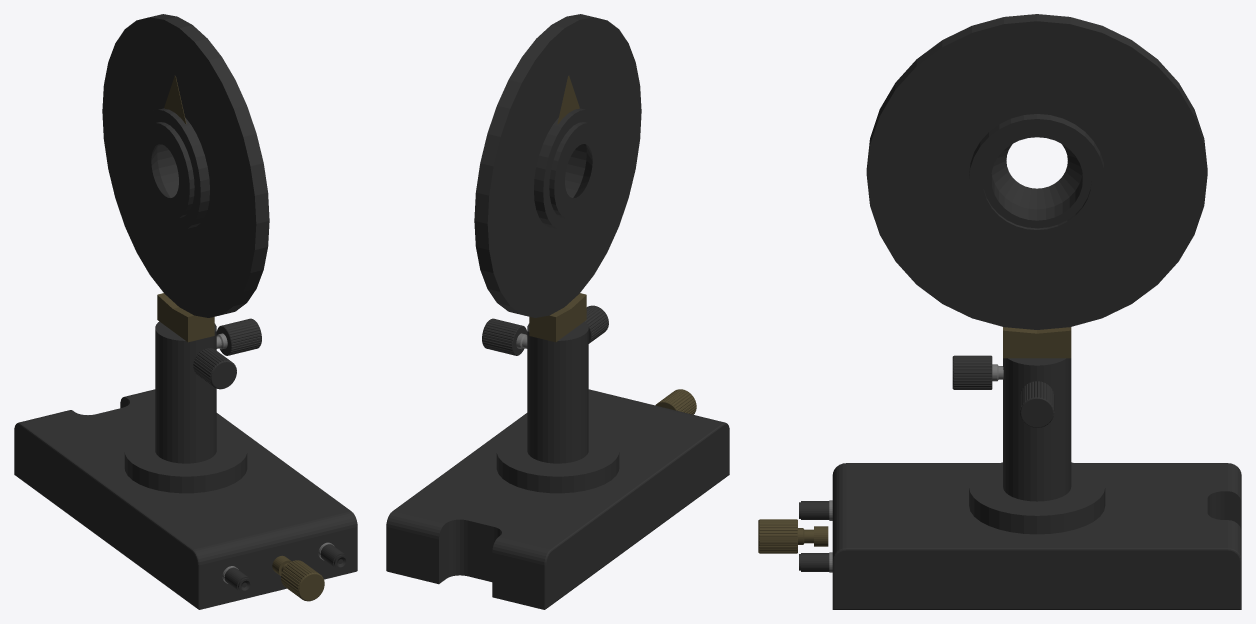
The model's file is 偏振镜.fbx.
3 views of the same model, side by side, from view 1: azimuth 30°, elevation 25°; view 2: azimuth 150°, elevation 25°; view 3: azimuth 270°, elevation 25° (orthographic). The views are drawn at different scales.
Parts seen in each view (by area): view 1: 滑座, 刻度盘, 柱体, 旋转座, 盘支架, 大旋钮, 大旋钮.001, 大旋钮.002, 小旋扭, 指针; view 2: 滑座, 刻度盘, 柱体, 旋转座, 盘支架, 大旋钮.002, 大旋钮, 大旋钮.001, 指针; view 3: 刻度盘, 滑座, 柱体, 旋转座, 盘支架, 大旋钮.001, 大旋钮.002, 大旋钮, 小旋扭.
Part boxes in pixels (box(x1,y1,x2,y2)): 滑座: box(14, 389, 357, 609); 刻度盘: box(102, 14, 269, 317); 柱体: box(124, 321, 247, 493); 旋转座: box(139, 108, 209, 229); 盘支架: box(157, 293, 214, 342); 大旋钮: box(281, 560, 324, 601); 大旋钮.001: box(193, 348, 236, 389); 大旋钮.002: box(216, 318, 261, 355); 小旋扭: box(224, 544, 347, 592); 指针: box(164, 76, 186, 124); 滑座: box(386, 389, 729, 609); 刻度盘: box(474, 14, 641, 317); 柱体: box(496, 321, 619, 493); 旋转座: box(534, 108, 604, 229); 盘支架: box(529, 293, 586, 342); 大旋钮.002: box(482, 318, 527, 355); 大旋钮: box(655, 389, 696, 414); 大旋钮.001: box(585, 305, 608, 343); 指针: box(557, 76, 579, 124); 刻度盘: box(866, 14, 1207, 329); 滑座: box(832, 463, 1241, 609); 柱体: box(969, 358, 1105, 534); 旋转座: box(969, 114, 1105, 242); 盘支架: box(1003, 327, 1071, 358); 大旋钮.001: box(952, 355, 992, 389); 大旋钮.002: box(1020, 381, 1054, 427); 大旋钮: box(758, 519, 797, 553); 小旋扭: box(799, 501, 829, 571).
Bounding box in the file's own units: 60 × 178 × 142.
